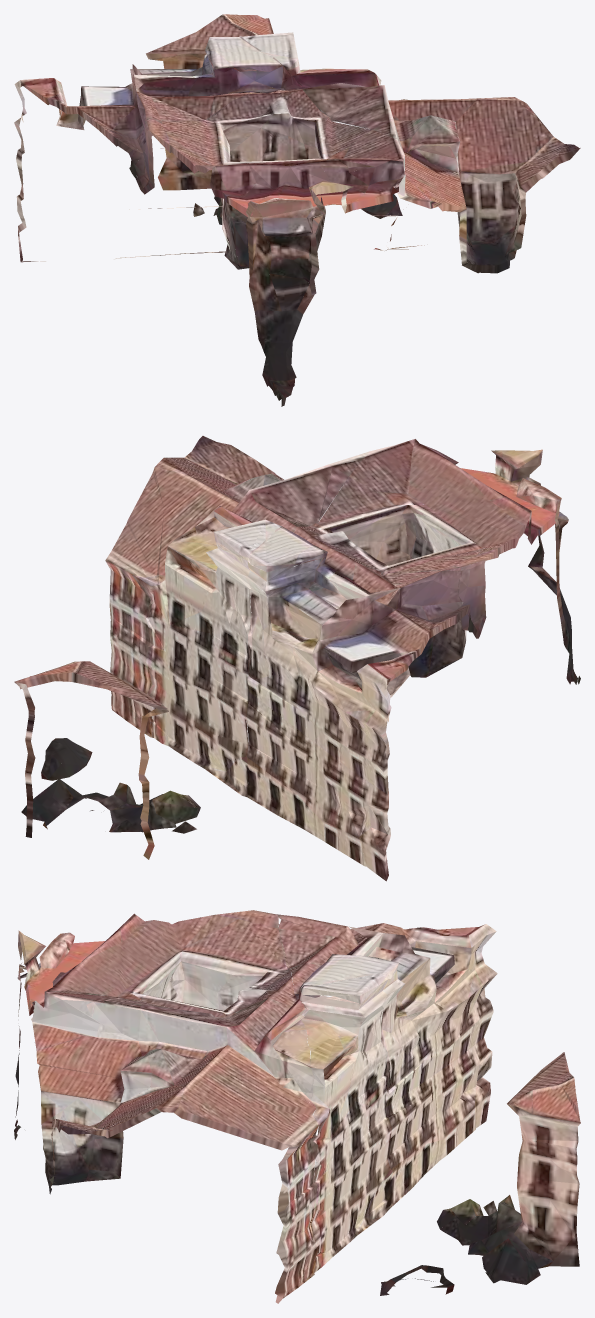
3 views of the same model, one above another, from view 1: azimuth 30°, elevation 25°; view 2: azimuth 150°, elevation 25°; view 3: azimuth 270°, elevation 25° (orthographic). The views are drawn at different scales.
Parts seen in each view (by area): view 1: Mesh_0; view 2: Mesh_0; view 3: Mesh_0.
Part boxes in pixels (bbox=[...]): Mesh_0: bbox=[14, 14, 580, 406]; Mesh_0: bbox=[14, 436, 580, 881]; Mesh_0: bbox=[14, 910, 580, 1303].
Size of the model in its own units: 33.27 by 19.26 by 41.16.
Materials: 2 (2 with a texture image).
